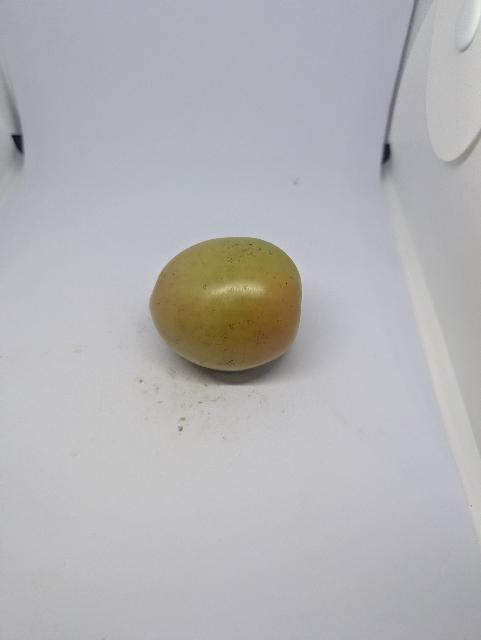breaker: (147, 238, 308, 375)
